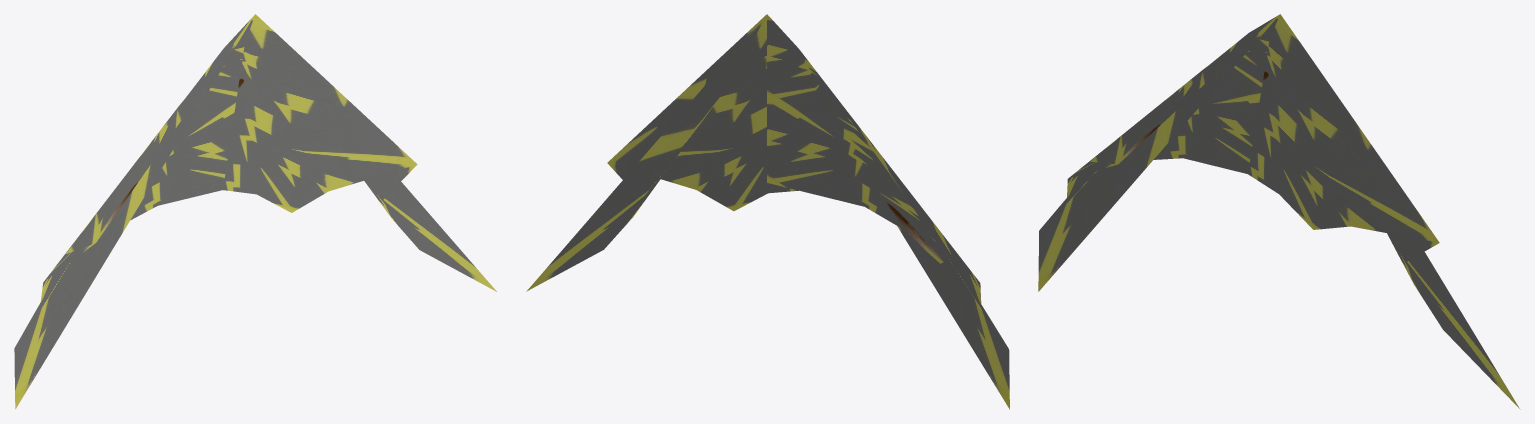
3 views of the same model, side by side, from view 1: azimuth 30°, elevation 25°; view 2: azimuth 150°, elevation 25°; view 3: azimuth 330°, elevation 25° (orthographic).
Visible parts, largest first — view 1: Origami_Model_21; view 2: Origami_Model_21; view 3: Origami_Model_21.
Part boxes in pixels (bbox=[...]): Origami_Model_21: bbox=[14, 14, 496, 409]; Origami_Model_21: bbox=[526, 14, 1009, 409]; Origami_Model_21: bbox=[1038, 14, 1520, 409].
Size of the model in its own units: 0.6 by 0.4 by 0.0055.
Materials: 1 (1 with a texture image).
